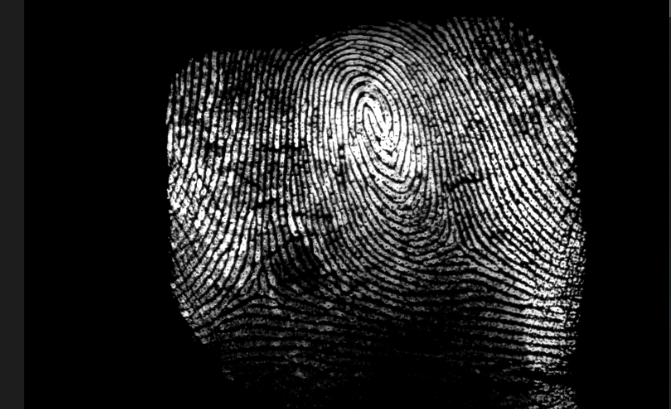nucelo: (346, 95, 408, 153)
verticilo: (237, 276, 286, 304), (440, 227, 469, 254)
